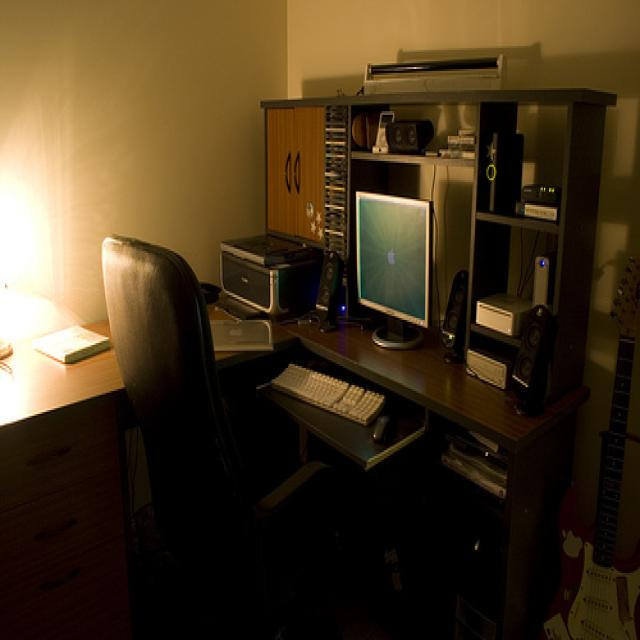Table: (4, 281, 640, 582)
chair: (81, 188, 277, 553)
